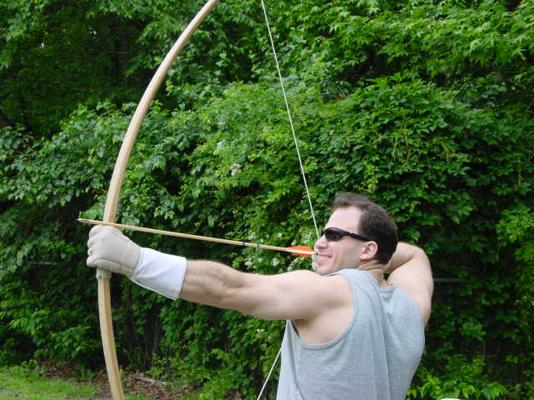person: (85, 191, 433, 400)
